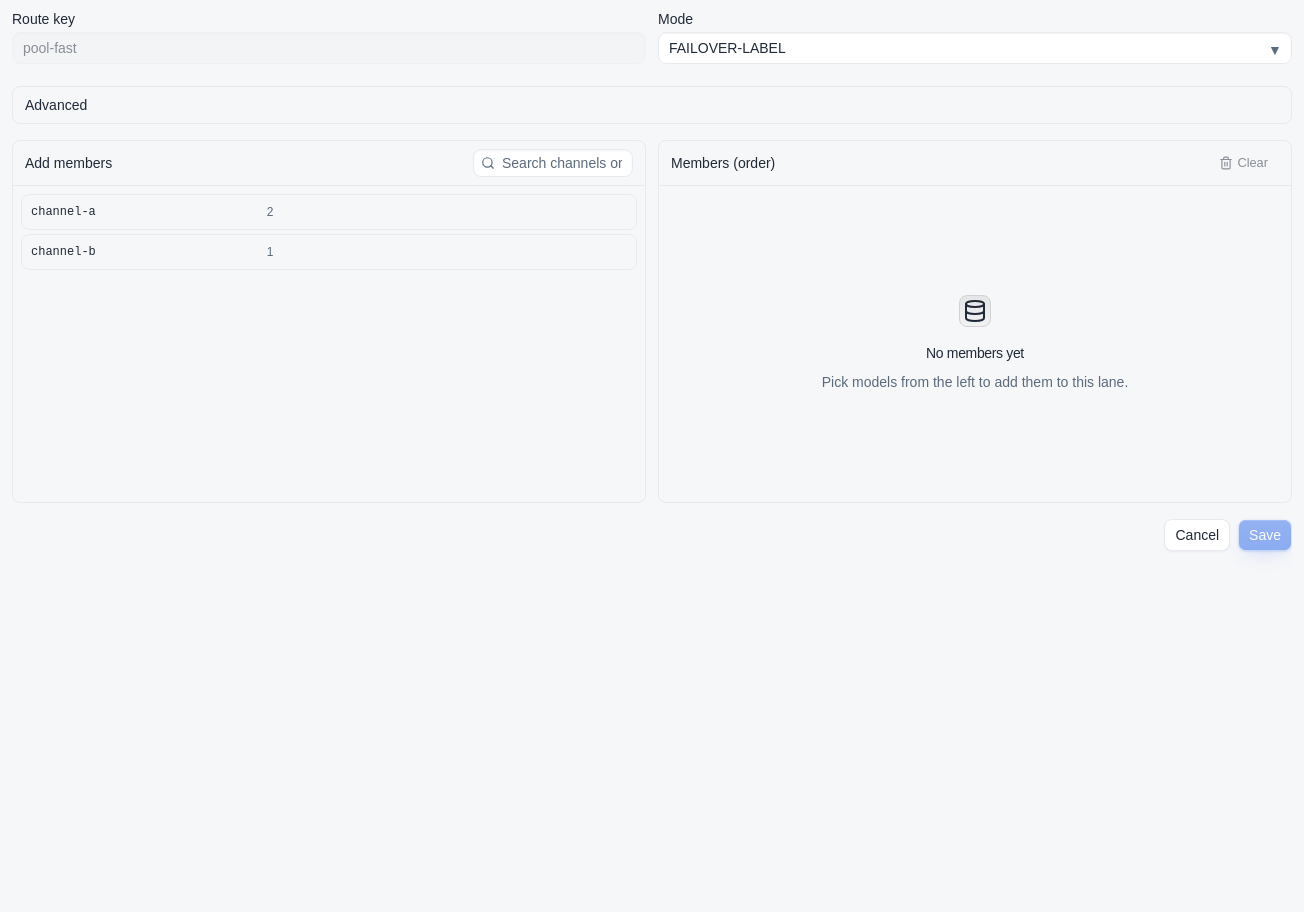
车道成员编排器 › 模式下拉触发框显示翻译后的标签而非原始值
The width and height of the screenshot is (1304, 912).
Click the dropdown named "Mode".
click(727, 48)  # box left=658, top=32, right=1292, bottom=64
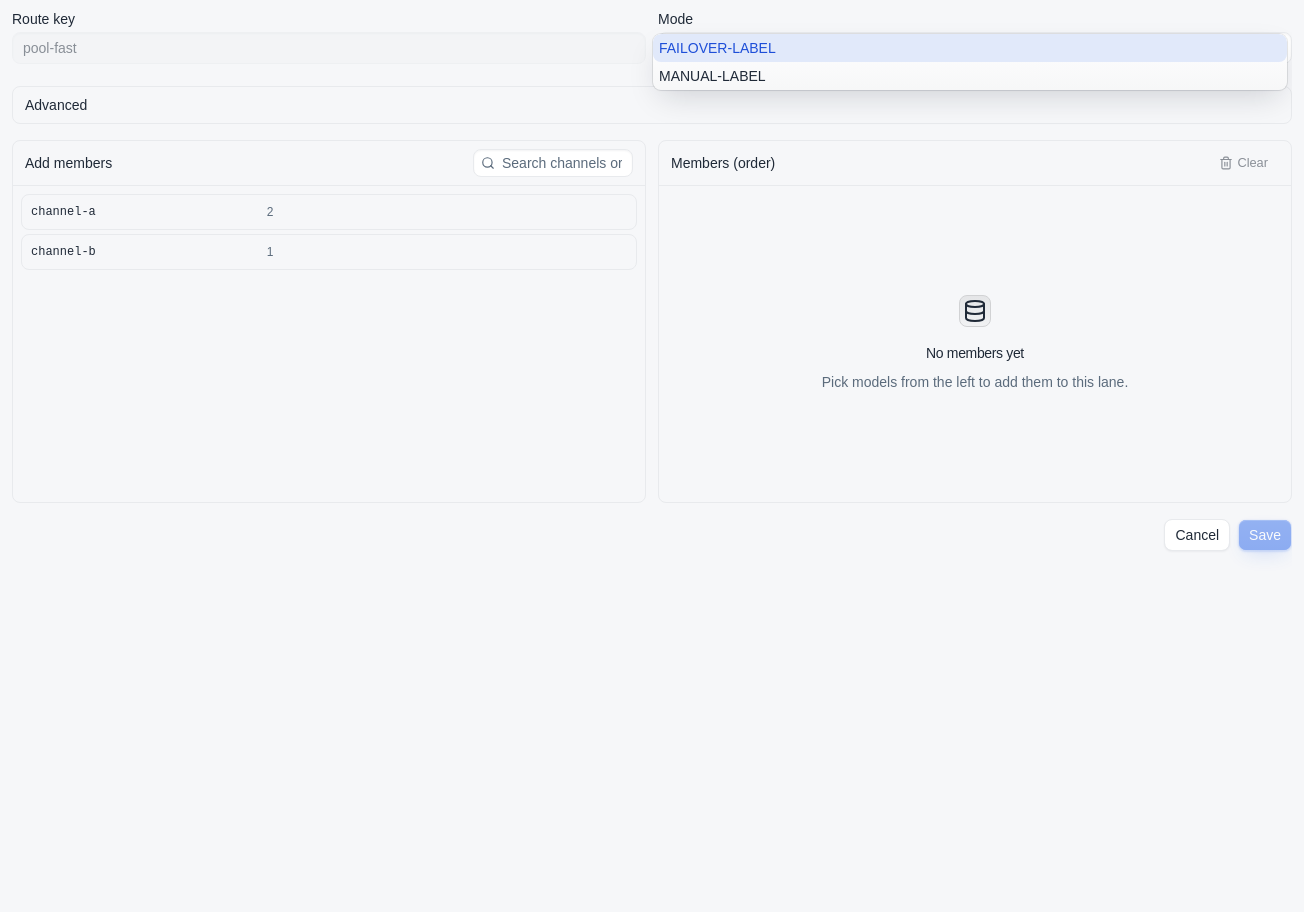
Click the option "MANUAL-LABEL".
click(712, 76)  # box left=659, top=68, right=766, bottom=84
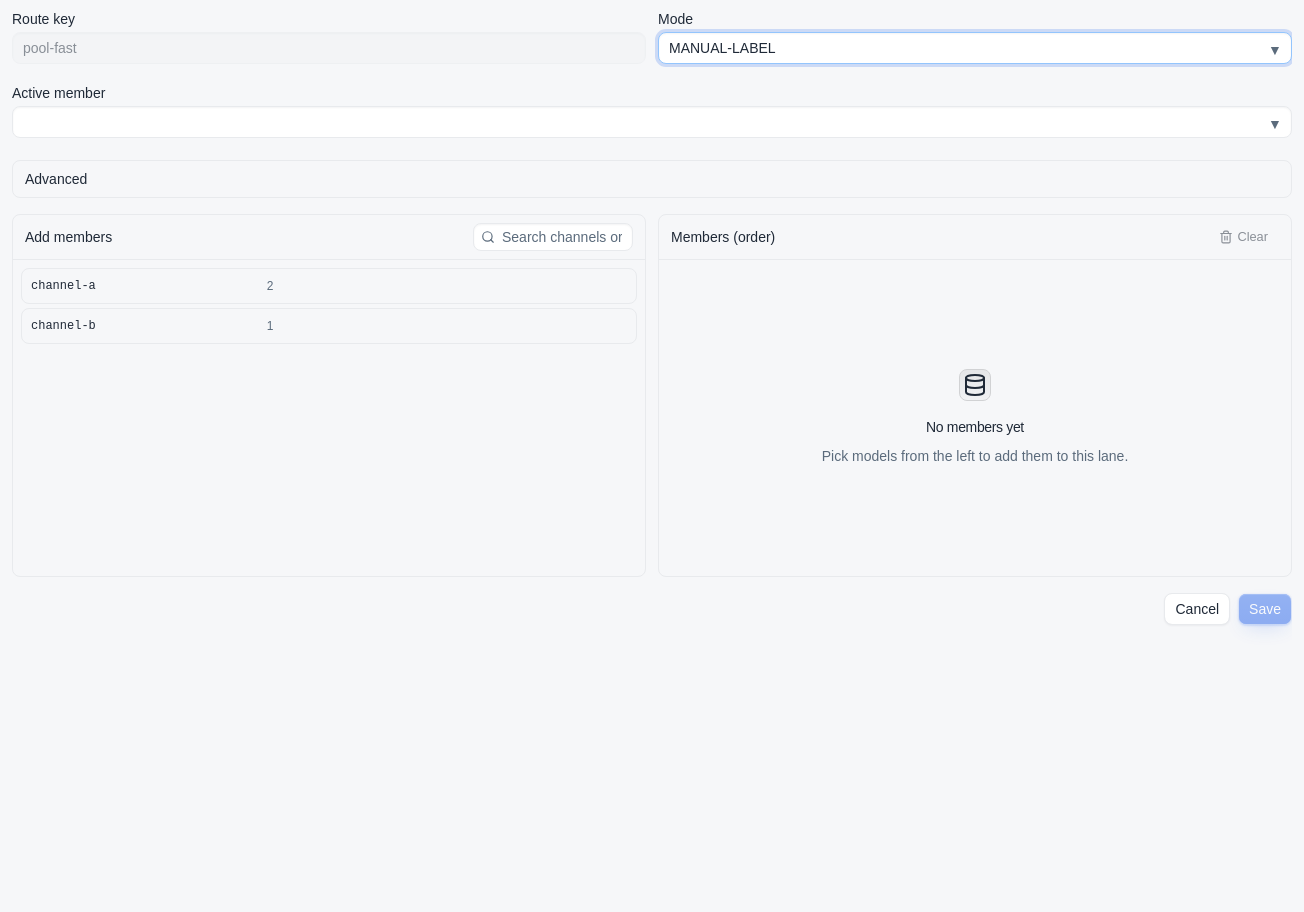
Check: the dropdown named "Mode" shows "MANUAL-LABEL", box left=658, top=32, right=1292, bottom=64
